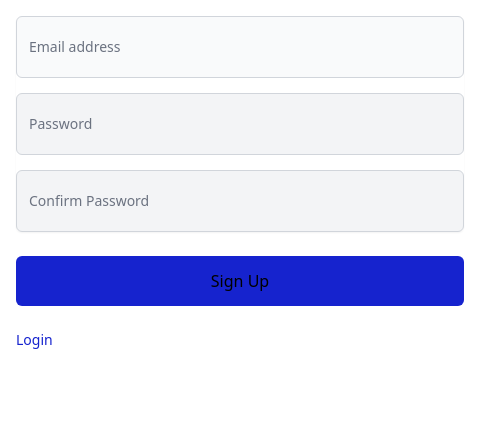
Test: Sign up component - Equivalence Class testing / Boundary value testing › displays error message for empty  password
Type "juliet@mail" into the field with placeholder "Email address". click: (240, 47)
box: [16, 16, 464, 78]
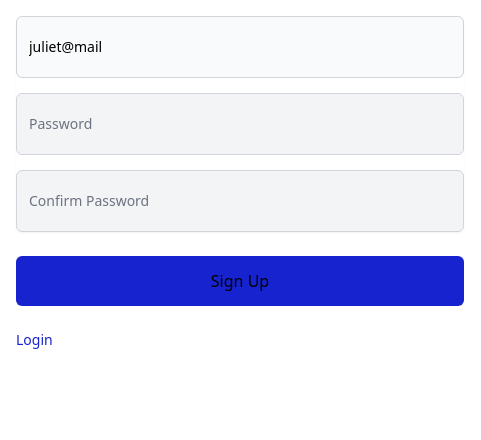
Click the button. click: (240, 281)
box: [16, 256, 464, 306]
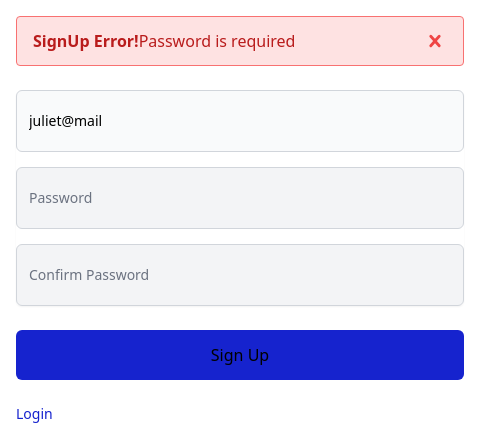
Expected: the text "Password is required" is shown, [139, 30, 295, 52]
